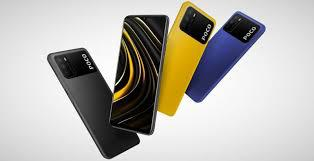Smartphone: (47, 51, 137, 158), (109, 15, 168, 131), (168, 0, 208, 116)
